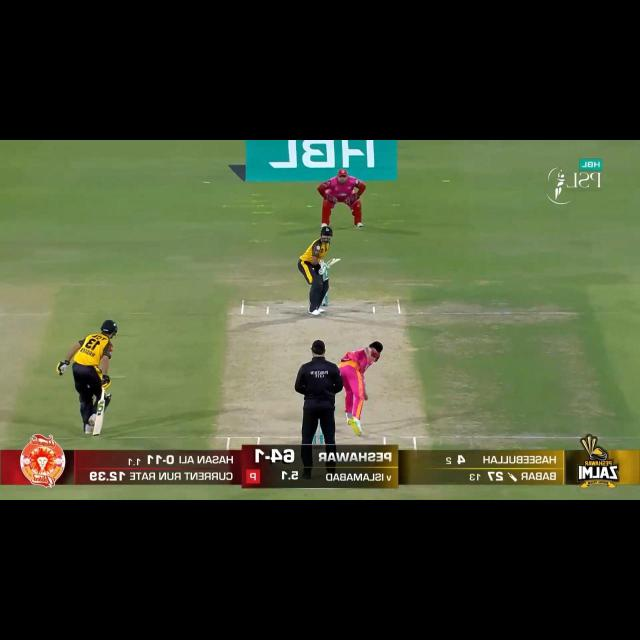bat: (91, 399, 106, 437), (323, 256, 341, 268)
toe: (92, 428, 103, 438), (330, 256, 340, 263)
